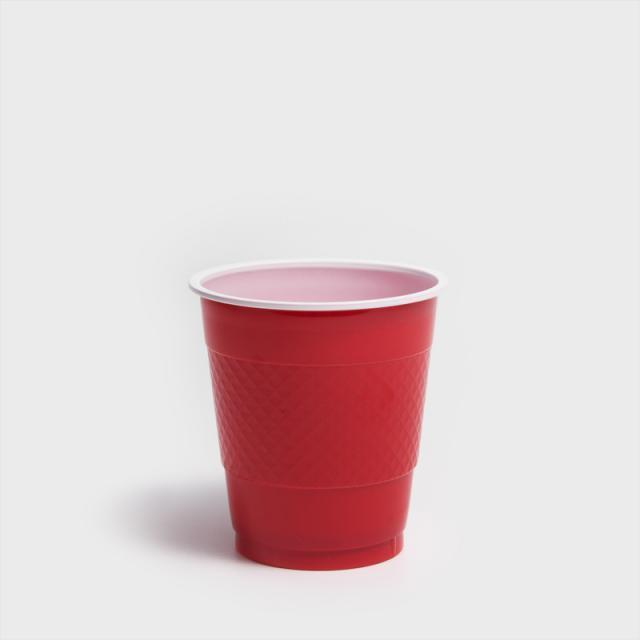Plastic: (192, 258, 438, 572)
